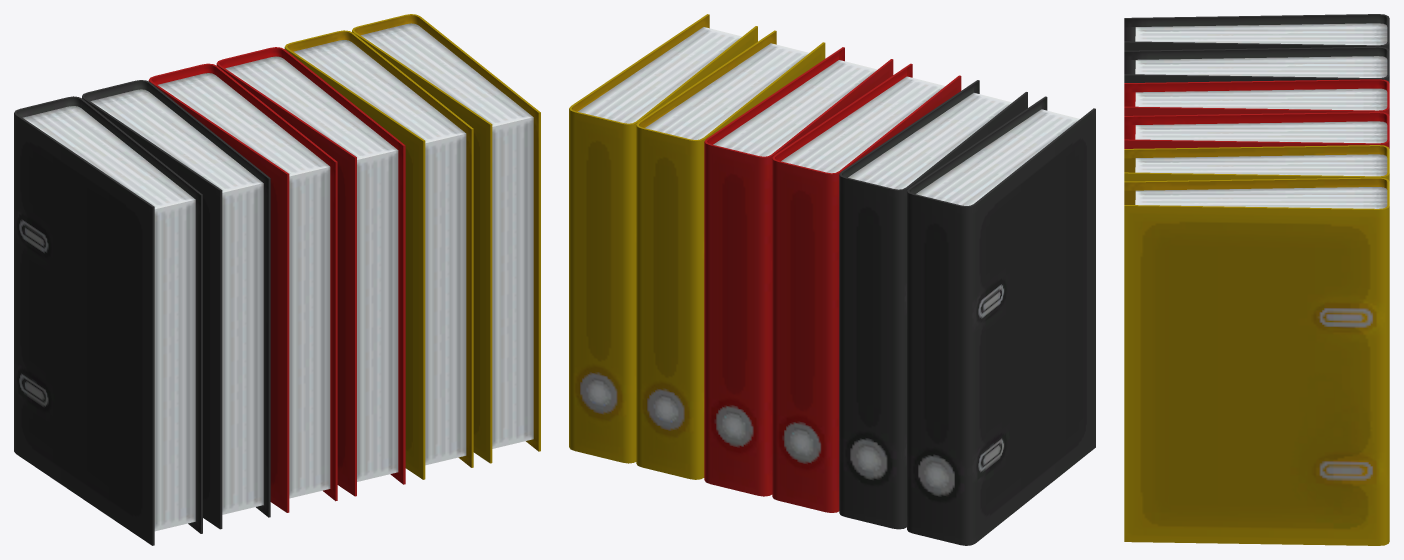
The model's file is OfficeDeskSet02__13.fbx.
3 renders of one model, left to right at view 1: azimuth 30°, elevation 25°; view 2: azimuth 150°, elevation 25°; view 3: azimuth 270°, elevation 25°, orthographic.
Visible parts, largest first — view 1: OfficeDeskSet02; view 2: OfficeDeskSet02; view 3: OfficeDeskSet02.
Boxes of the visible parts, x1,y1,x2,y2 form: OfficeDeskSet02: [14, 14, 540, 545]; OfficeDeskSet02: [569, 14, 1095, 545]; OfficeDeskSet02: [1124, 14, 1389, 545].
Bounding box in the file's own units: 0.3875 × 0.31 × 0.2221.
Materials: 1 (1 with a texture image).
